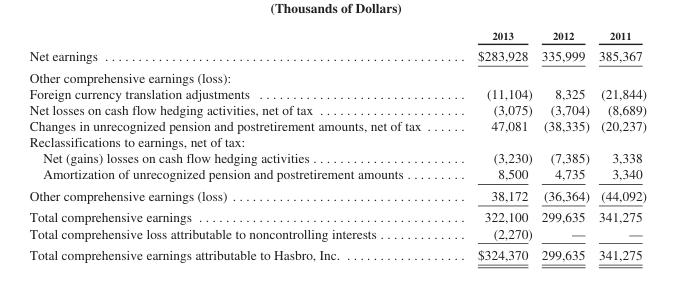table: (28, 28, 646, 262)
table column: (28, 28, 448, 262), (448, 28, 536, 262), (536, 28, 593, 262), (593, 28, 646, 262)
table column header: (28, 28, 646, 44)
table projected row header: (28, 66, 646, 85), (28, 133, 646, 149)
table row: (28, 44, 646, 66), (28, 184, 646, 206), (28, 66, 646, 85), (28, 165, 646, 184), (28, 224, 646, 243), (28, 243, 646, 262), (28, 206, 646, 224), (28, 28, 646, 44), (28, 85, 646, 101), (28, 101, 646, 117), (28, 117, 646, 133), (28, 133, 646, 149), (28, 149, 646, 165)
